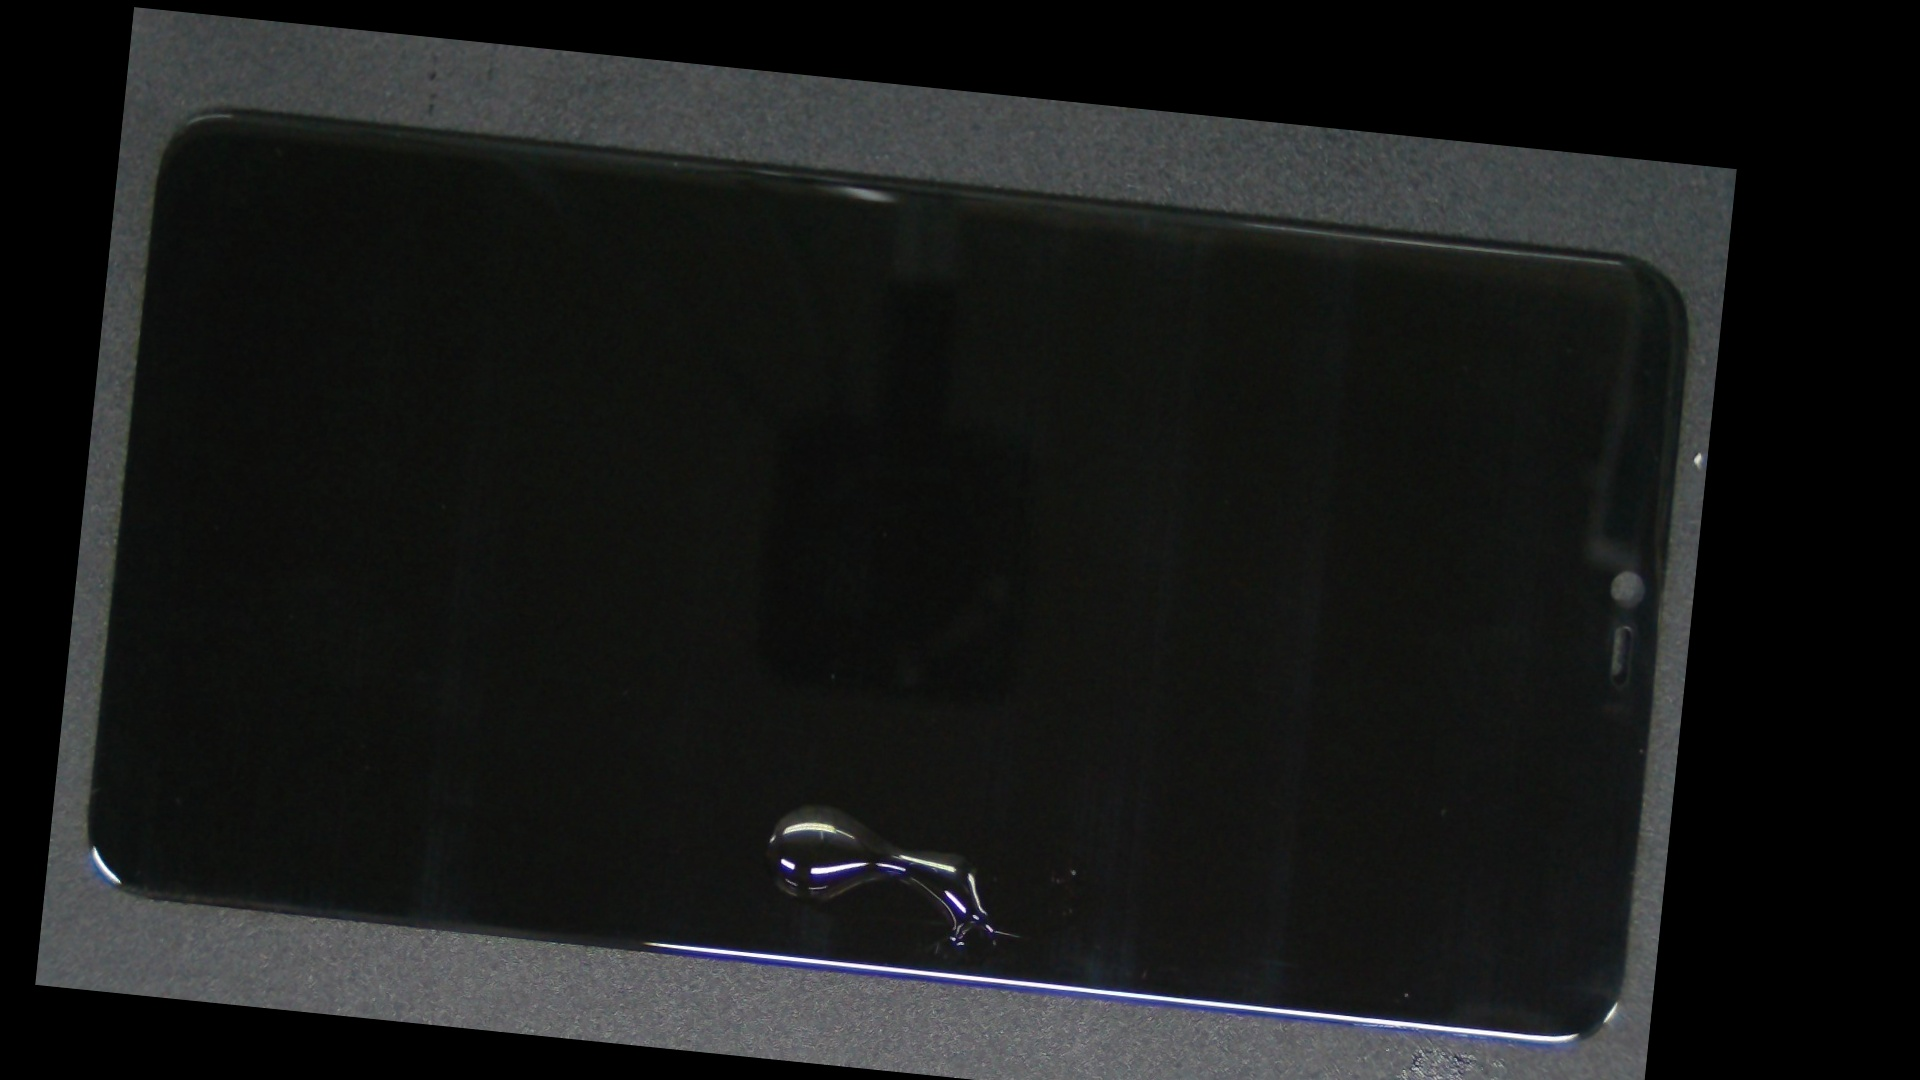oil: (417, 406, 1242, 1080)
